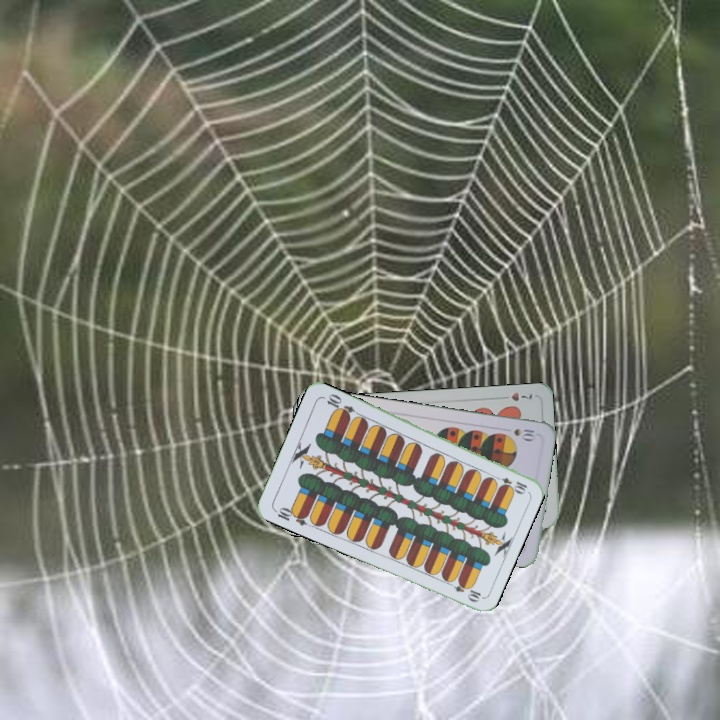E10: (270, 503, 311, 528), (490, 472, 530, 495)
H7: (496, 388, 535, 404)
S10: (509, 424, 538, 442)
